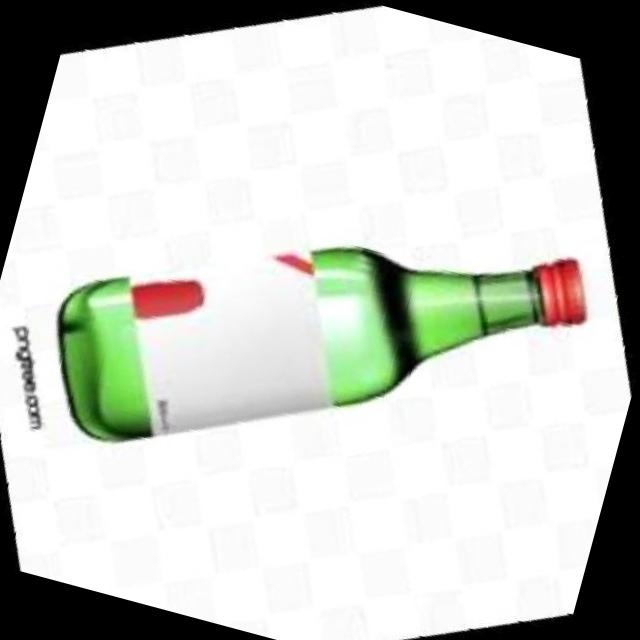BotolKaca: (28, 133, 600, 557)
